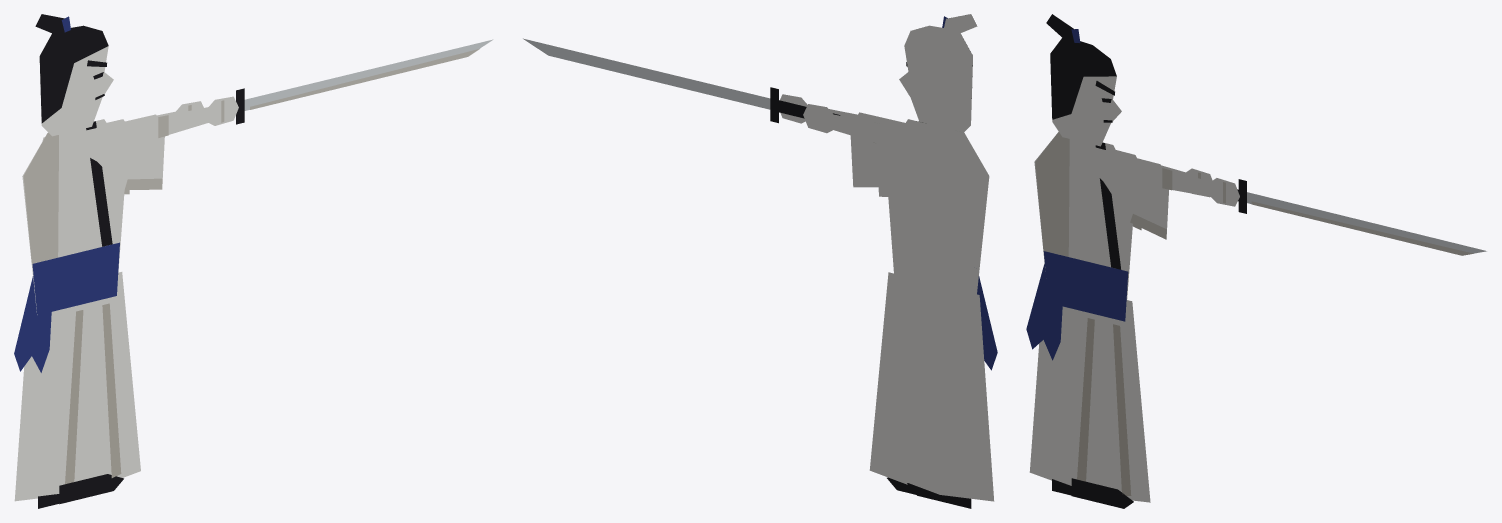
The model's file is puppet.glb.
The picture shows the model from 3 angles, left to right: view 1: azimuth 30°, elevation 25°; view 2: azimuth 150°, elevation 25°; view 3: azimuth 330°, elevation 25°; orthographic projection. The views are drawn at different scales.
Parts seen in each view (by area): view 1: legF, torso, head, armFU, sword, legB, armFL, footF; view 2: legB, torso, head, armBU, legF, sword, armFU, armBL, footB; view 3: legF, torso, head, armFU, sword, legB, armFL, footF.
Part boxes in pixels (bbox=[...]): legF: bbox=[36, 272, 140, 496]; torso: bbox=[14, 119, 124, 372]; head: bbox=[35, 14, 113, 136]; armFU: bbox=[72, 114, 164, 189]; sword: bbox=[236, 39, 493, 124]; legB: bbox=[14, 356, 45, 501]; armFL: bbox=[158, 96, 238, 137]; footF: bbox=[59, 474, 123, 504]; legB: bbox=[890, 278, 994, 501]; torso: bbox=[888, 119, 997, 370]; head: bbox=[899, 14, 977, 132]; armBU: bbox=[876, 122, 968, 197]; legF: bbox=[869, 272, 959, 484]; sword: bbox=[523, 38, 840, 123]; armFU: bbox=[850, 112, 905, 187]; armBL: bbox=[803, 104, 883, 143]; footB: bbox=[907, 483, 971, 508]; legF: bbox=[1049, 300, 1150, 502]; torso: bbox=[1026, 132, 1132, 360]; head: bbox=[1046, 14, 1121, 146]; armFU: bbox=[1079, 144, 1168, 239]; sword: bbox=[1237, 179, 1486, 255]; legB: bbox=[1029, 340, 1058, 480]; armFL: bbox=[1162, 168, 1239, 206]; footF: bbox=[1071, 478, 1133, 508].
Bounding box in the file's own units: 2.29 × 2.26 × 0.031.
